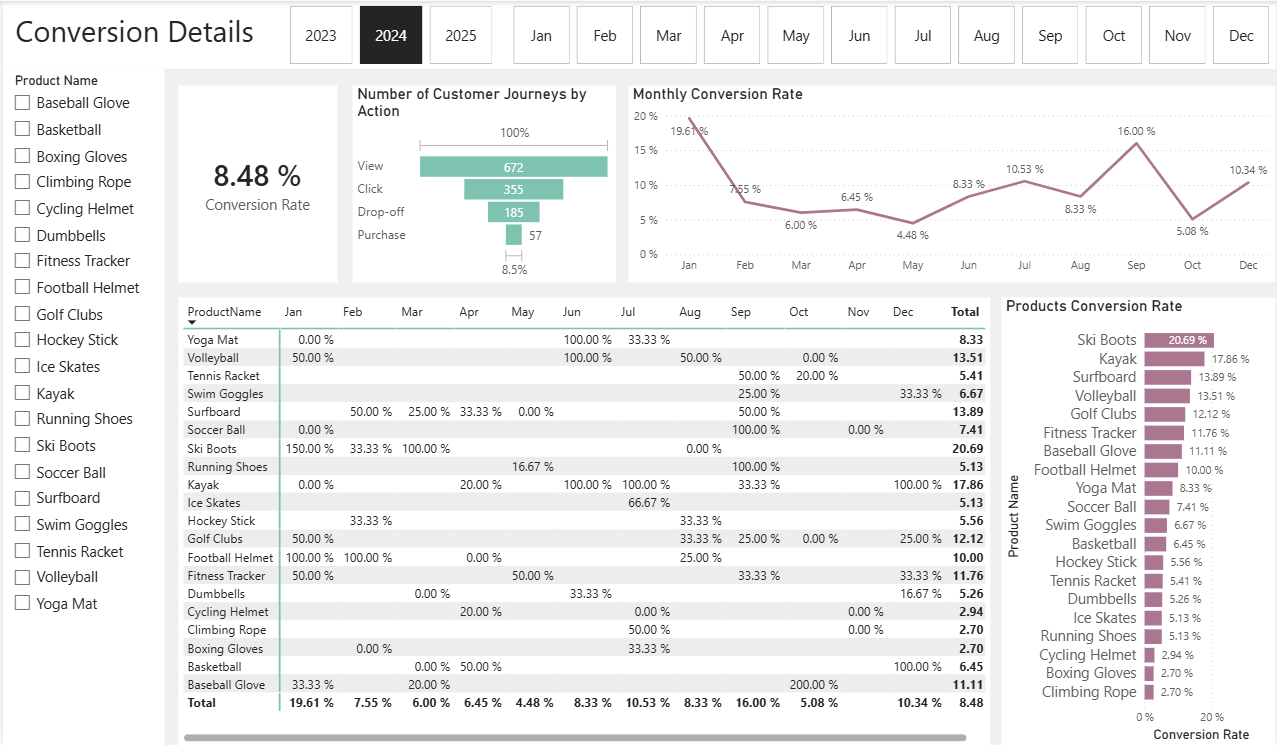

The dashboard page shown, as its layout file describes it:
{"tool":"powerbi","page":{"name":"Conversion Details","canvas":[1400,820],"ordinal":1},"visuals":[{"type":"textbox","box":[0,0,1400.3,74.4],"z":0},{"type":"slicer","fields":{"Values":["dim_product.ProductName"]},"box":[0,74.4,177.4,745.2],"z":1000},{"type":"advancedSlicerVisual","fields":{"Values":["Date.Year"]},"box":[310.4,0,234.6,74.4],"z":2000},{"type":"advancedSlicerVisual","fields":{"Values":["Date.MonthNameShort"]},"box":[556.4,0,843.9,74.4],"z":3000},{"type":"cardVisual","fields":{"Data":["_mesures.Conversion Rate"]},"box":[192.9,92.9,174.3,217.1],"z":4000},{"type":"lineChart","title":"Monthly Conversion Rate ","fields":{"Y":["_mesures.Conversion Rate"],"Category":["Date.MonthNameShort"]},"box":[688.6,92.9,711.4,217.1],"z":5000},{"type":"clusteredBarChart","title":"Product Conversion Rate ","fields":{"Category":["dim_product.ProductName"],"Y":["_mesures.Conversion Rate"]},"box":[1098.6,325.7,301.4,494.3],"z":6000},{"type":"funnel","title":" Number of Customer Journeys by Action","fields":{"Category":["fact_customer_journey.Action"],"Y":["CountNonNull(fact_customer_journey.CustomerID)"]},"box":[384.3,92.9,290,217.1],"z":7000},{"type":"pivotTable","fields":{"Values":["_mesures.Conversion Rate"],"Rows":["dim_product.ProductName"],"Columns":["Date.MonthNameShort"]},"box":[192.9,325.7,892.9,494.3],"z":8000}]}

Visuals, with their boxes in screenshot pixels (x1, y1, x2, y2), scaled from the page's 1400x820 canvas onto the 1277x745 screenshot:
textbox: {"left": 0, "top": 0, "right": 1276, "bottom": 68}
slicer - dim_product.ProductName: {"left": 0, "top": 68, "right": 162, "bottom": 744}
advancedSlicerVisual - Date.Year: {"left": 283, "top": 0, "right": 497, "bottom": 68}
advancedSlicerVisual - Date.MonthNameShort: {"left": 508, "top": 0, "right": 1276, "bottom": 68}
cardVisual - _mesures.Conversion Rate: {"left": 176, "top": 84, "right": 335, "bottom": 282}
"Monthly Conversion Rate " lineChart: {"left": 628, "top": 84, "right": 1276, "bottom": 282}
"Product Conversion Rate " clusteredBarChart: {"left": 1002, "top": 296, "right": 1276, "bottom": 744}
" Number of Customer Journeys by Action" funnel: {"left": 351, "top": 84, "right": 615, "bottom": 282}
pivotTable - _mesures.Conversion Rate x dim_product.ProductName: {"left": 176, "top": 296, "right": 990, "bottom": 744}
